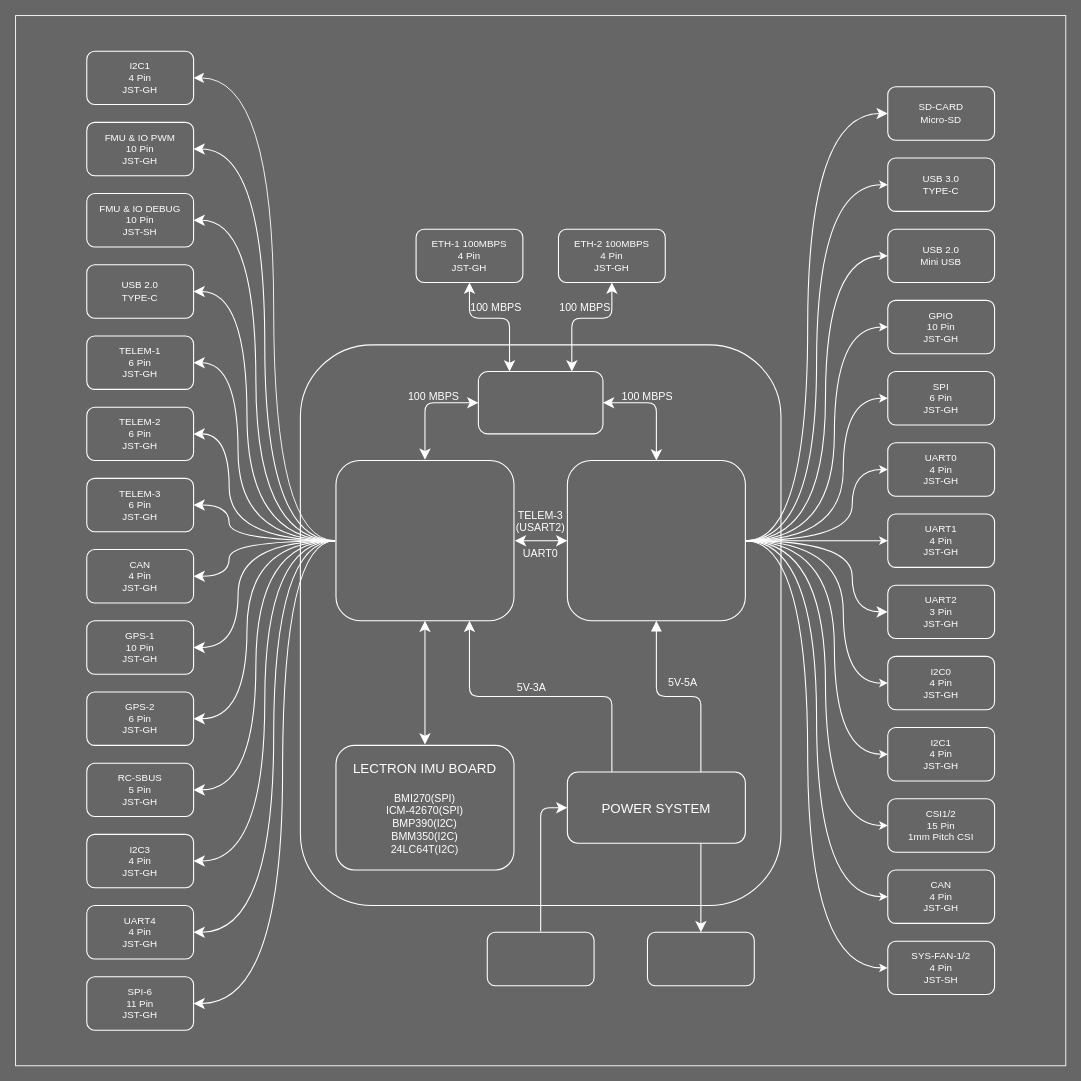
Image size: 1081x1081. Some labels were removed from this diagram. Here are the shapes that lost their labels. From the top down, the centre of each, then its label:
the point at 540,402: ETHERNET SWITCH
the point at 424,540: LECTRON V6X (FMU UNIT) ICM-42670(SPI) BMP390(I2C) FRAM(SPI) SE051(I2C)
the point at 655,540: JETSON UNIT BMI-270(SPI)
the point at 540,958: 12-25VDC POWER XT30
the point at 700,958: 12V-2A POWER 4 Pin JST-GH
